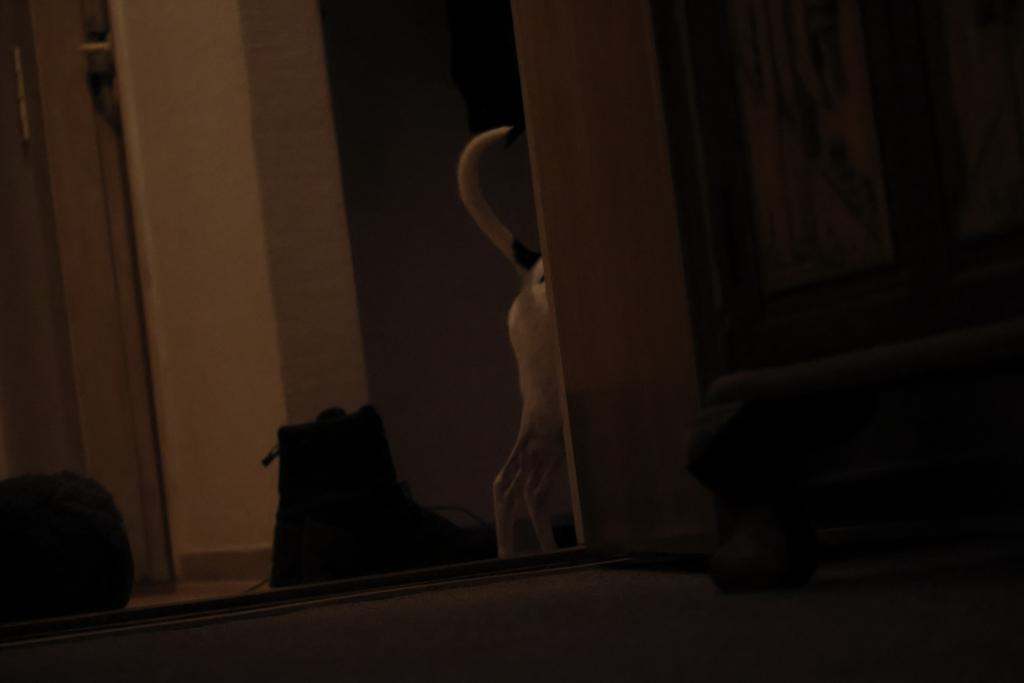Dog: (441, 117, 604, 573)
